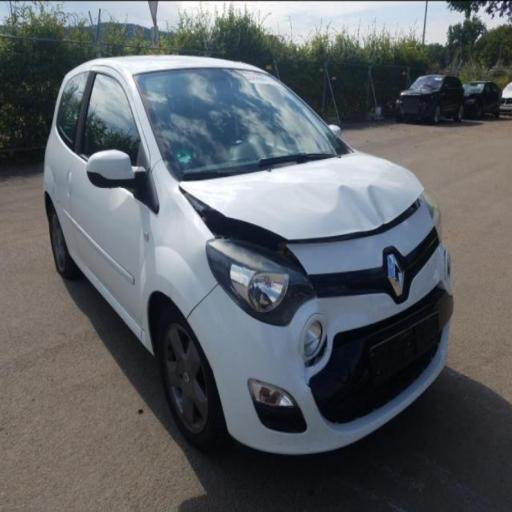dent: (189, 164, 426, 249)
